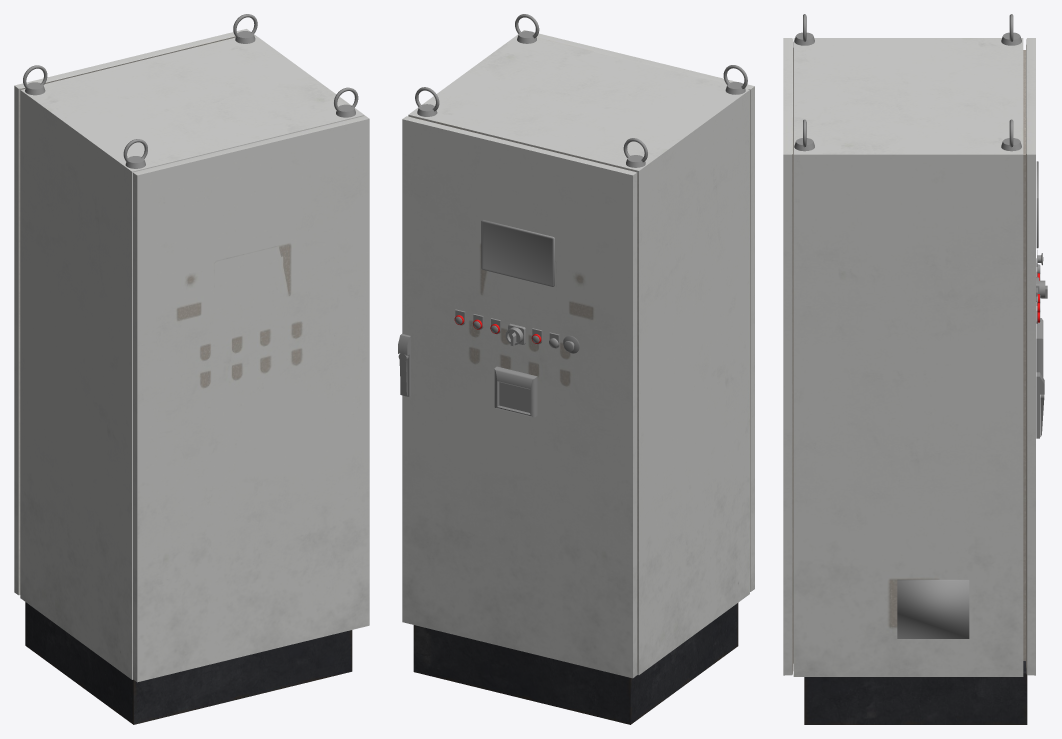
File: 10040_1lou.FBX
The picture shows the model from 3 angles, left to right: view 1: azimuth 30°, elevation 25°; view 2: azimuth 150°, elevation 25°; view 3: azimuth 270°, elevation 25°; orthographic projection. The views are drawn at different scales.
Visible parts, largest first — view 1: 1lou_01; view 2: 1lou_01; view 3: 1lou_01.
Boxes of the visible parts, box(x1,y1,x2,y2) form: 1lou_01: box(14, 14, 369, 724); 1lou_01: box(398, 14, 754, 724); 1lou_01: box(783, 14, 1047, 724).
Bounding box in the file's own units: 82.13 × 192 × 76.63.
